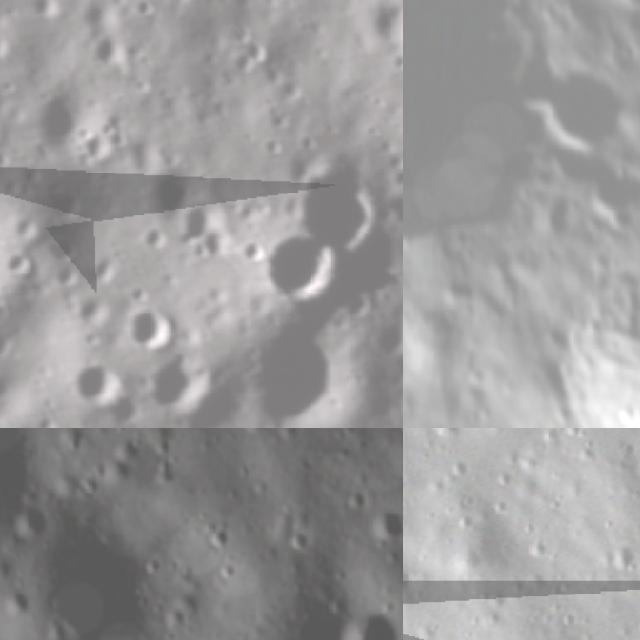crater: (403, 0, 615, 311), (537, 249, 640, 428), (236, 322, 369, 428), (28, 530, 145, 640), (534, 57, 640, 160), (288, 152, 396, 252), (256, 231, 346, 305), (143, 348, 218, 424), (533, 128, 611, 197), (141, 150, 206, 231), (505, 44, 576, 118), (175, 190, 241, 265), (29, 89, 93, 157), (578, 156, 640, 222), (114, 298, 178, 361), (331, 602, 403, 640), (70, 355, 116, 406), (359, 0, 403, 51), (440, 267, 493, 309), (87, 31, 132, 80), (226, 36, 273, 79), (99, 386, 147, 428), (558, 0, 614, 32), (9, 504, 51, 543), (368, 506, 403, 543), (202, 521, 238, 554), (156, 600, 190, 634), (0, 589, 34, 620), (607, 543, 639, 574), (339, 483, 372, 512), (286, 525, 316, 556), (488, 298, 519, 327), (59, 428, 93, 452), (215, 557, 243, 585), (138, 554, 168, 579), (25, 0, 64, 17), (132, 0, 158, 23), (424, 428, 460, 444), (403, 548, 414, 597), (0, 28, 14, 63), (232, 428, 272, 438)
